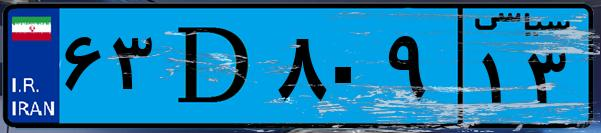0: (330, 28, 385, 110)
1: (475, 38, 525, 113)
3: (525, 38, 570, 115), (110, 28, 158, 98)
6: (57, 26, 110, 100)
8: (270, 28, 330, 110)
9: (385, 28, 445, 110)
D: (158, 12, 270, 120)
